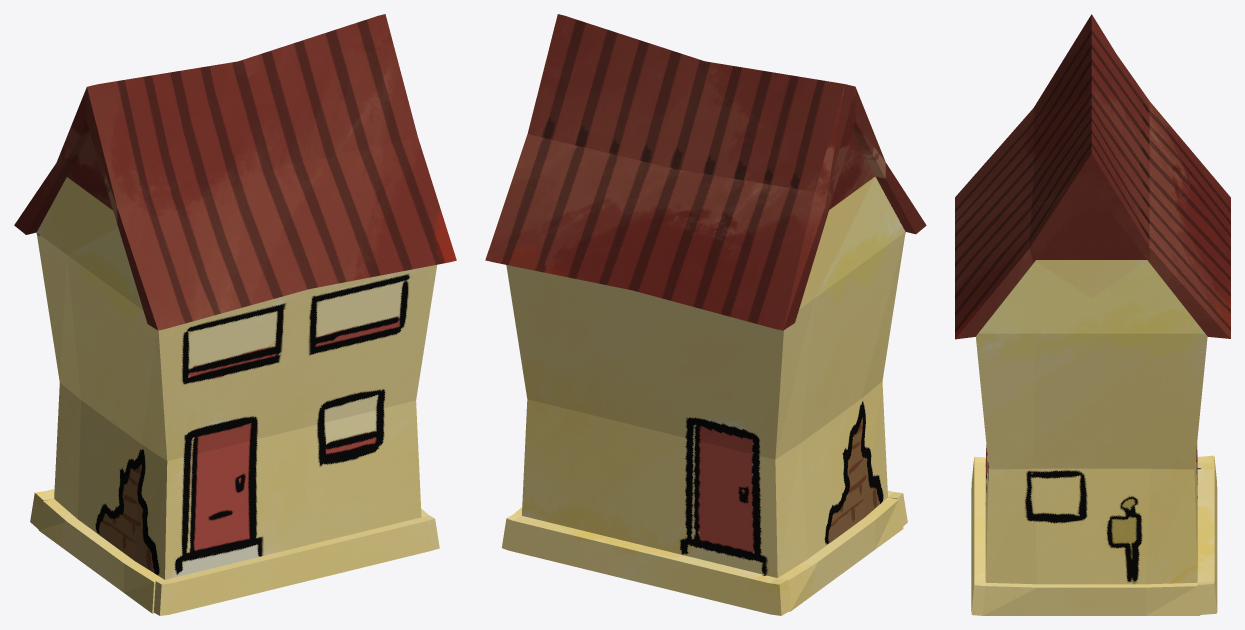
Rendered from house2.obj.
The picture shows the model from 3 angles, left to right: view 1: azimuth 30°, elevation 25°; view 2: azimuth 150°, elevation 25°; view 3: azimuth 270°, elevation 25°; orthographic projection. The views are drawn at different scales.
Parts seen in each view (by area): view 1: House(1); view 2: House(1); view 3: House(1).
Part boxes in pixels (bbox=[...]): House(1): bbox=[14, 14, 456, 615]; House(1): bbox=[485, 14, 926, 615]; House(1): bbox=[955, 14, 1230, 615].
Bounding box in the file's own units: 2.12 × 3.31 × 1.77.
Materials: 1 (1 with a texture image).
